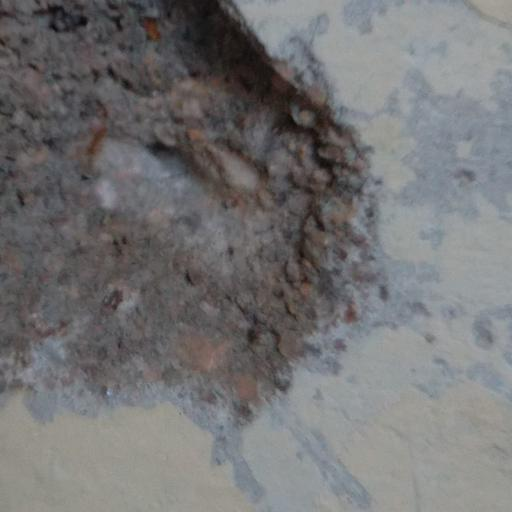spalling: (0, 0, 406, 446)
